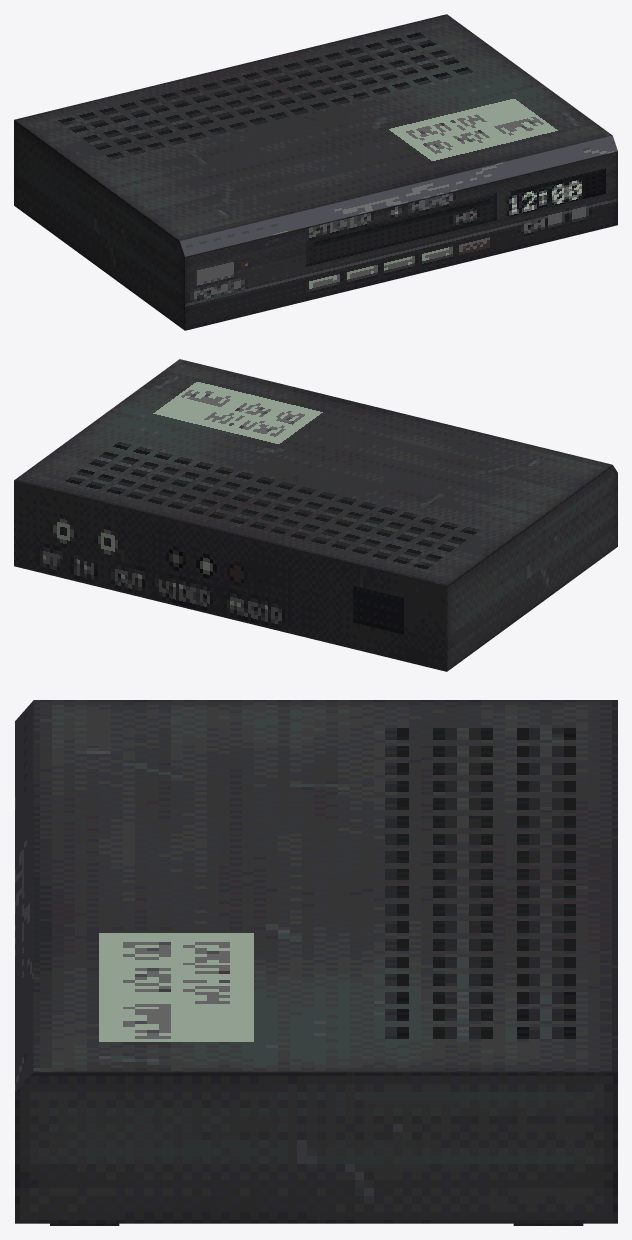
Rendered from vcr_player.glb.
3 renders of one model, top to bottom at view 1: azimuth 30°, elevation 25°; view 2: azimuth 150°, elevation 25°; view 3: azimuth 270°, elevation 25°, orthographic. The views are drawn at different scales.
Parts seen in each view (by area): view 1: vcr_player; view 2: vcr_player; view 3: vcr_player.
Boxes of the visible parts, <box> form: vcr_player: <box>14,14,617,330</box>; vcr_player: <box>14,359,617,671</box>; vcr_player: <box>15,700,617,1225</box>.
Bounding box in the file's own units: 0.38 × 0.08 × 0.2605.
Materials: 2 (2 with a texture image).
